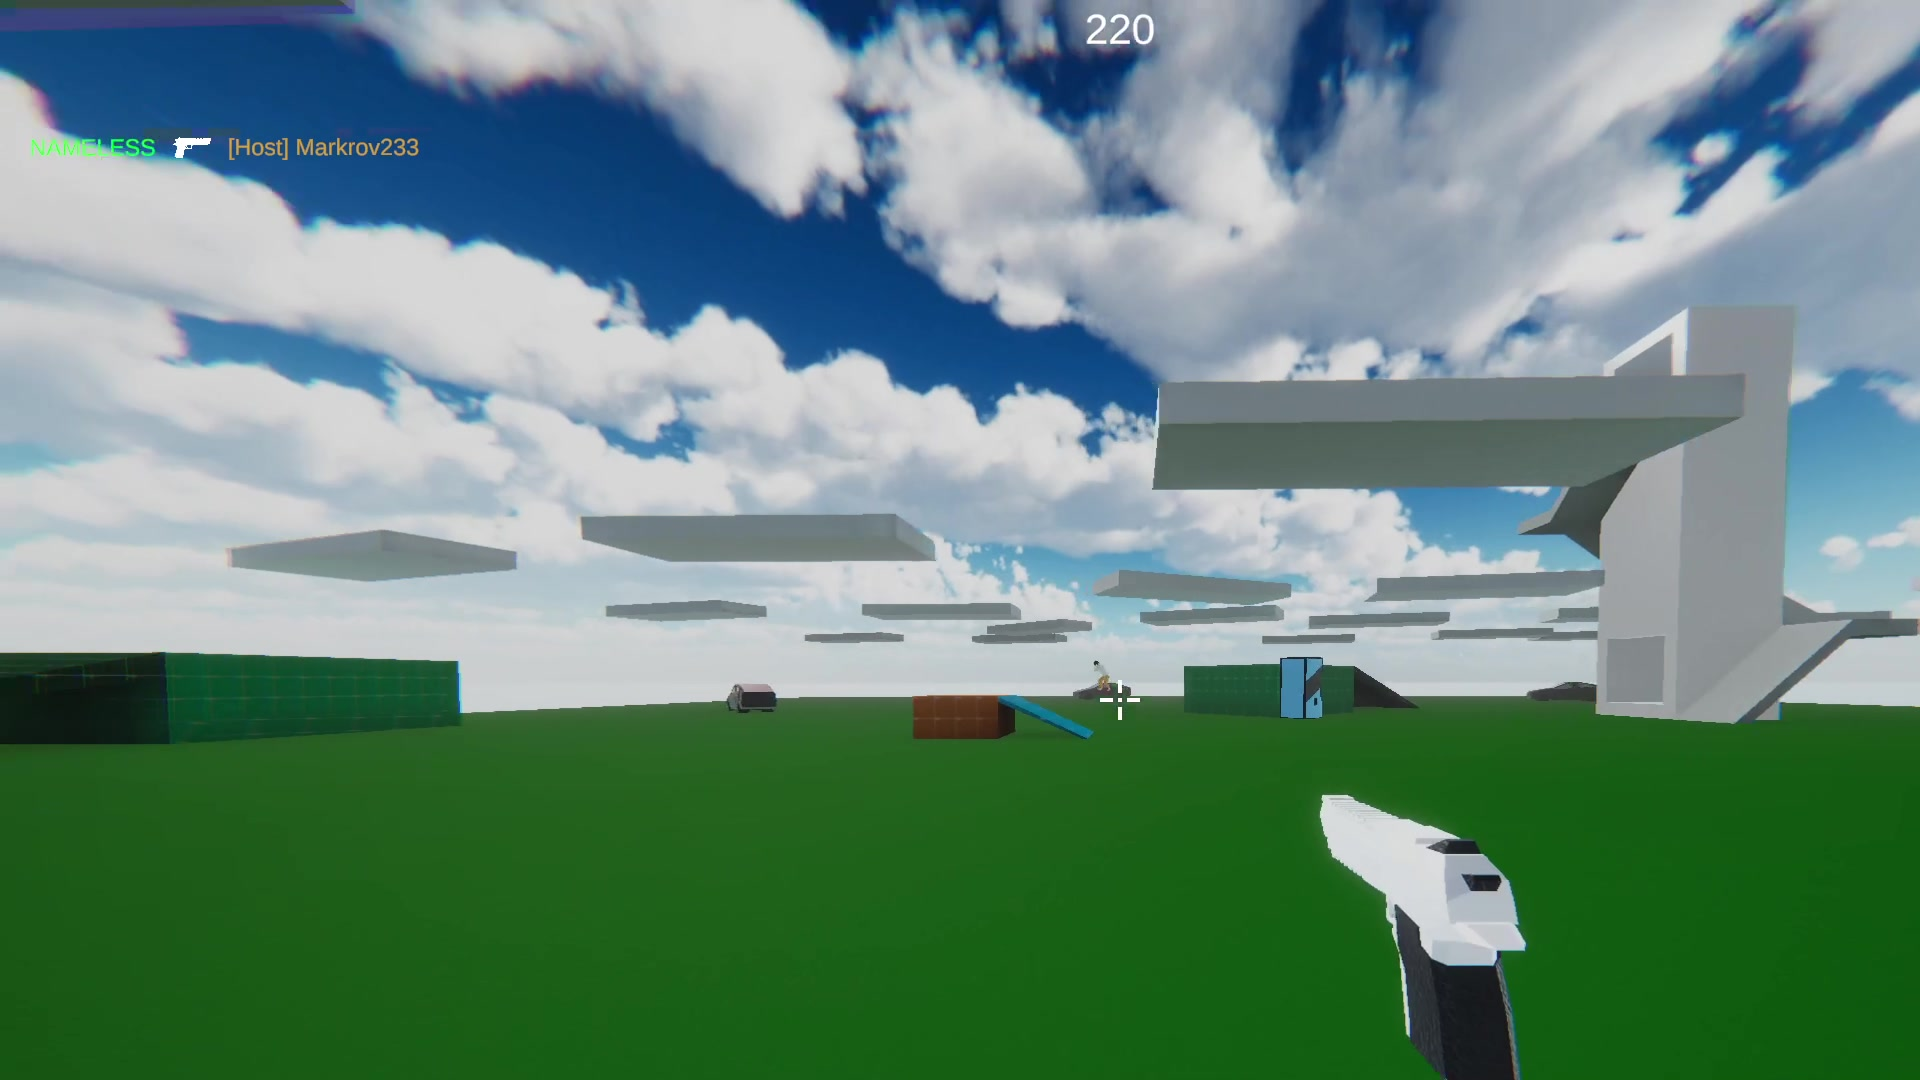human: (1089, 652, 1115, 690)
